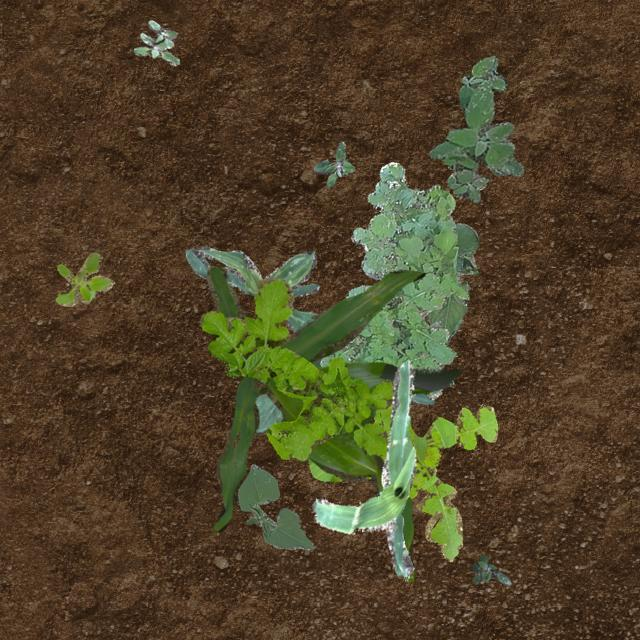crop: (205, 264, 460, 580), (312, 358, 416, 578), (284, 308, 432, 404), (185, 244, 318, 296), (235, 464, 312, 550), (427, 222, 478, 344), (254, 392, 282, 433)
weed: (198, 276, 392, 460), (318, 162, 468, 398), (308, 400, 497, 560), (428, 55, 522, 202), (54, 250, 112, 306), (132, 20, 178, 64), (312, 140, 353, 187), (428, 320, 452, 386), (470, 554, 510, 584), (348, 336, 360, 344)
